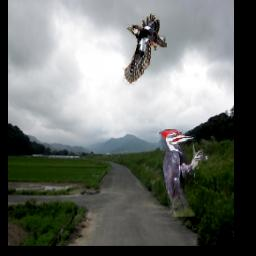Woodpecker: (159, 130, 208, 218), (123, 13, 167, 86)
